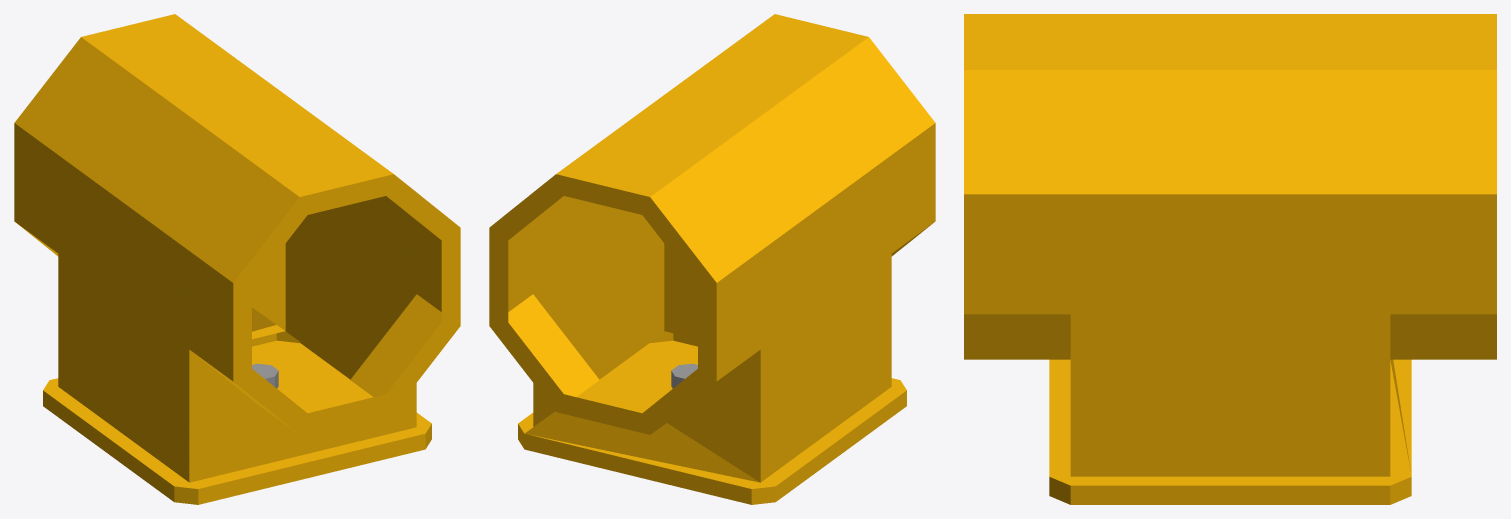
File: modular_engine_coolant_manifold_housing.dae
3 views of the same model, side by side, from view 1: azimuth 30°, elevation 25°; view 2: azimuth 150°, elevation 25°; view 3: azimuth 270°, elevation 25° (orthographic). The views are drawn at different scales.
Visible parts, largest first — view 1: Cube; view 2: Cube; view 3: Cube.
Boxes of the visible parts, <box> form: Cube: <box>14,14,460,504</box>; Cube: <box>489,14,935,504</box>; Cube: <box>964,14,1496,504</box>.
Bounding box in the file's own units: 0.17 × 0.25 × 0.2.
